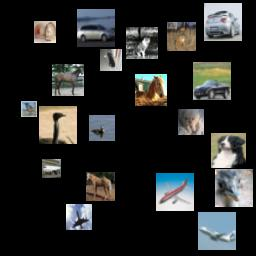airplane: (156, 173, 194, 211), (198, 212, 236, 250), (66, 204, 92, 230), (42, 159, 61, 178)
automobile: (193, 62, 231, 100), (77, 9, 115, 47), (204, 3, 242, 41)
bird: (39, 106, 77, 144), (215, 169, 253, 207), (89, 115, 115, 141), (21, 101, 37, 117)
cat: (126, 27, 158, 59), (34, 21, 56, 43)
dog: (211, 133, 246, 168), (167, 22, 196, 51), (178, 109, 204, 135), (100, 49, 122, 71)
